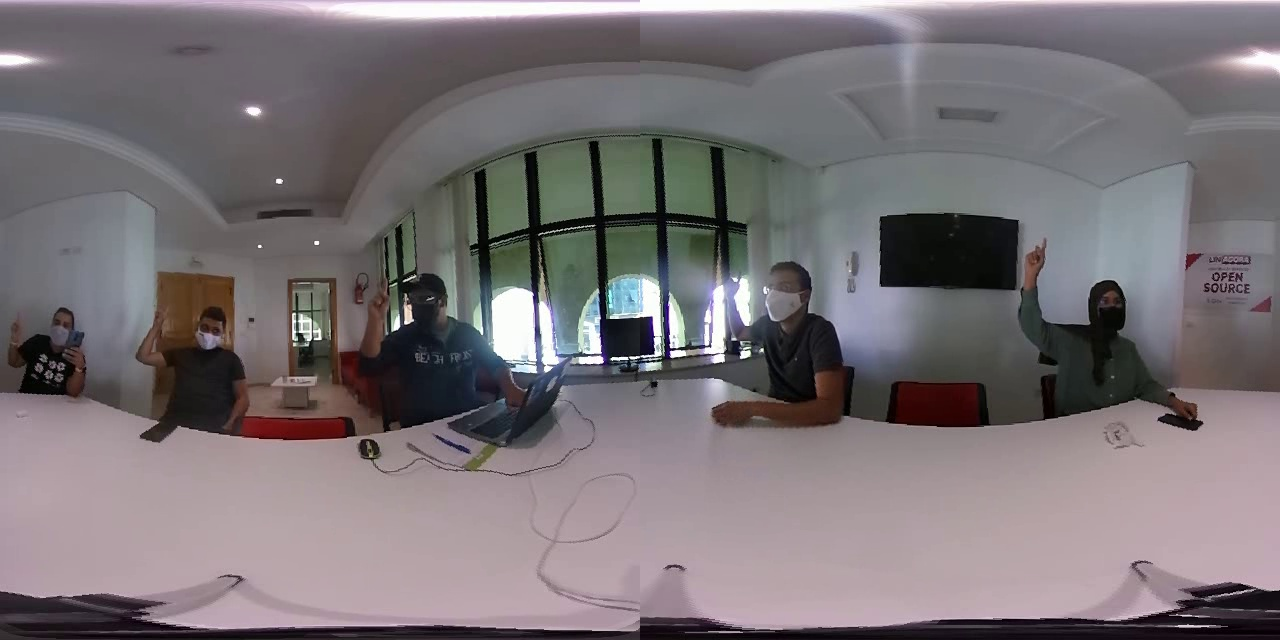person: (1018, 232, 1168, 418), (701, 253, 847, 441), (352, 265, 509, 424), (126, 292, 254, 445), (5, 293, 101, 411)
speaking: (1020, 228, 1069, 351), (355, 267, 396, 381), (132, 289, 179, 386), (718, 265, 754, 365), (6, 305, 32, 373)
